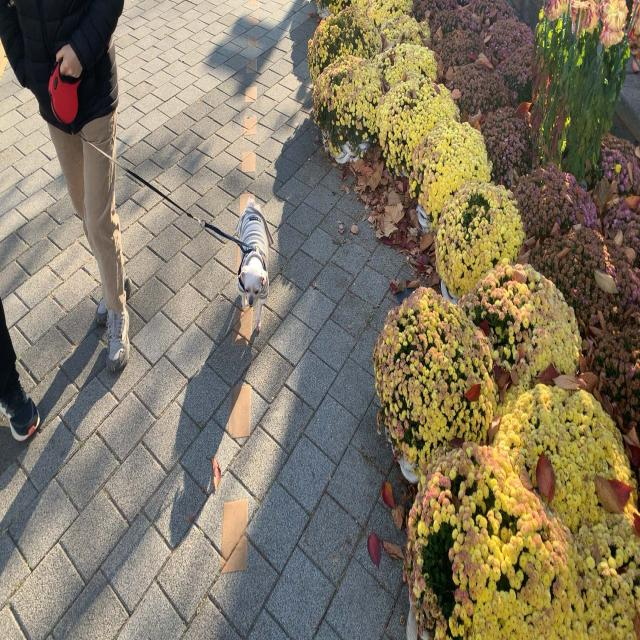Leashed_Dog: (86, 138, 274, 336)
